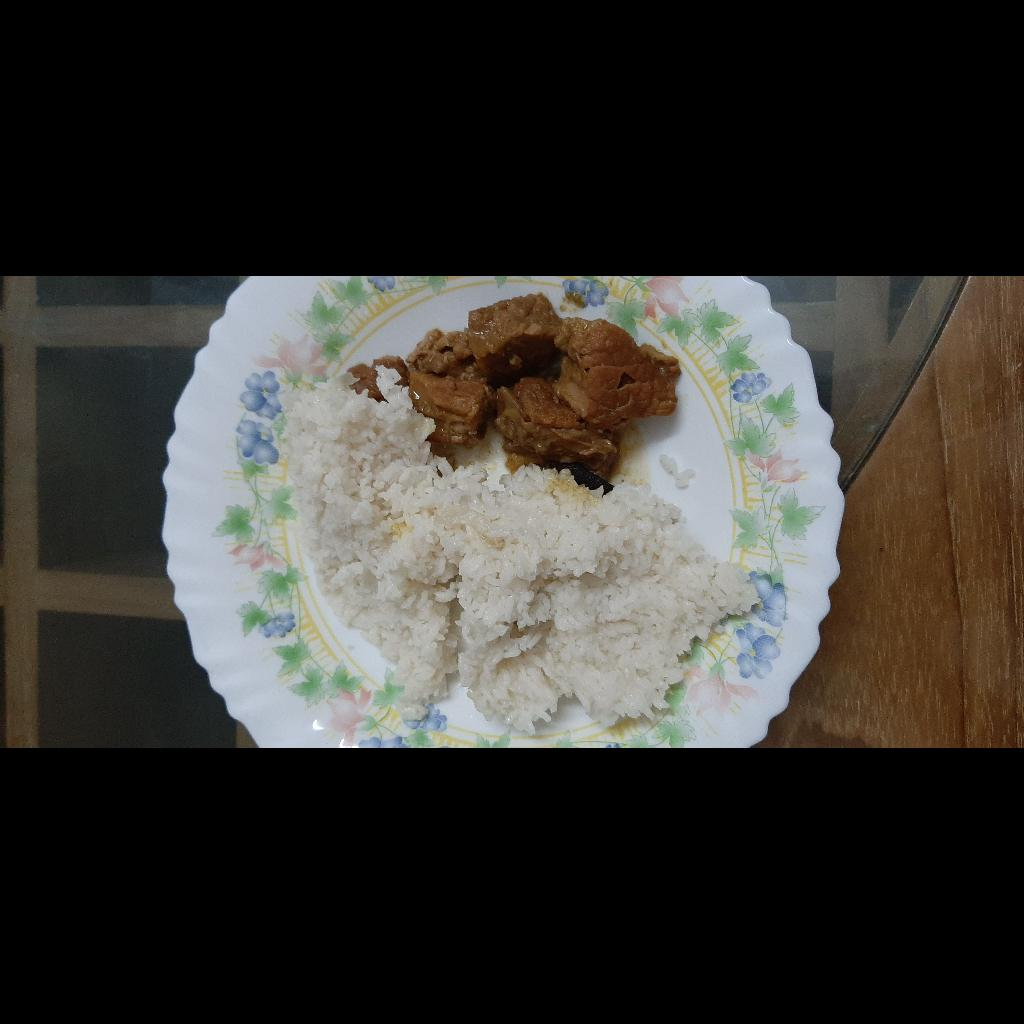beef: (258, 616, 458, 960)
rice: (13, 549, 385, 1024)
